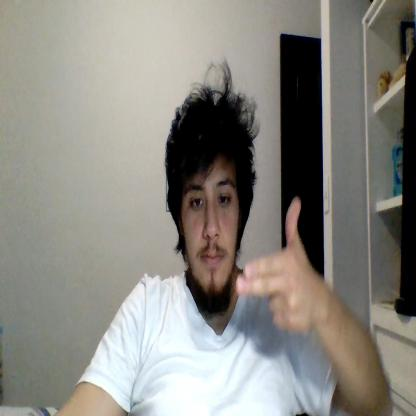H: (234, 198, 314, 333)
